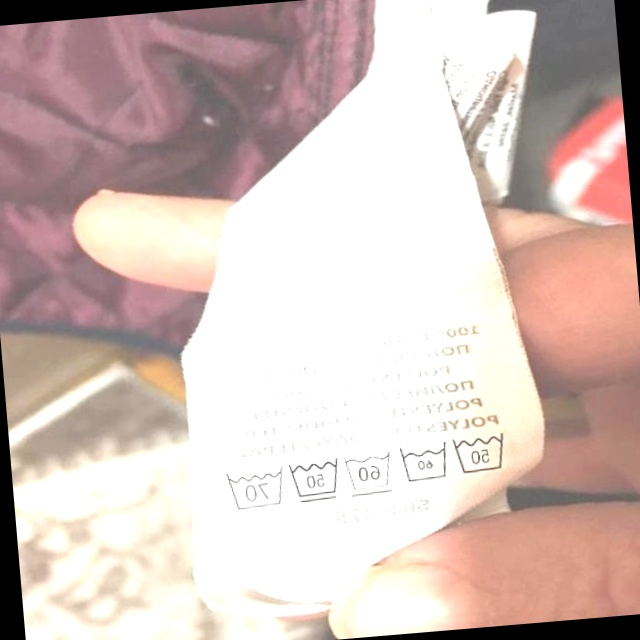50C: (448, 425, 514, 480), (284, 454, 344, 507)
60C: (339, 446, 396, 499), (394, 438, 452, 488)
70C: (219, 464, 287, 514)
